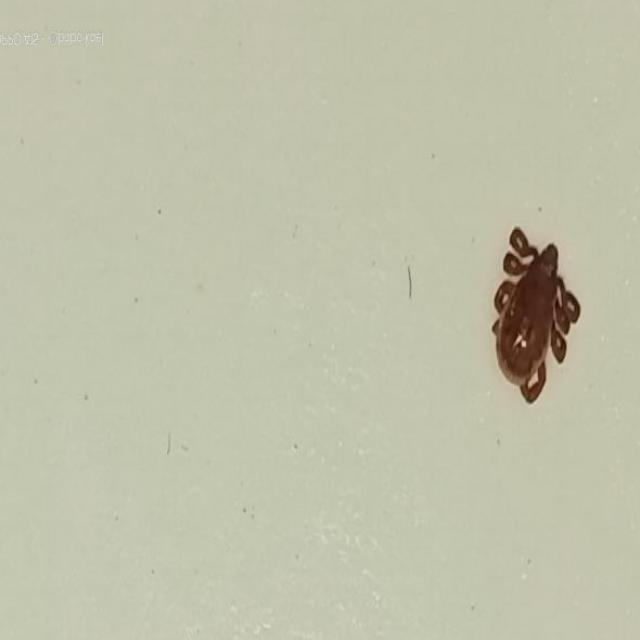Rhipicephalus Sanguineus-M: (490, 225, 581, 403)
